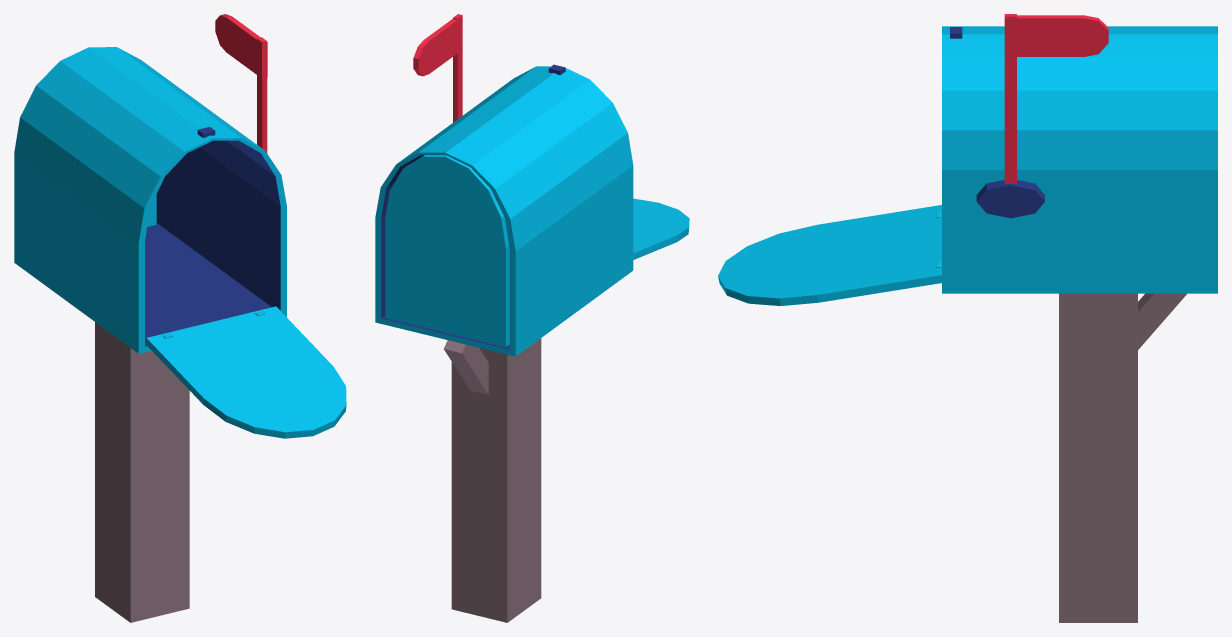
The model's file is ReferenceMailbox.fbx.
3 renders of one model, left to right at view 1: azimuth 30°, elevation 25°; view 2: azimuth 150°, elevation 25°; view 3: azimuth 270°, elevation 25°, orthographic. The views are drawn at different scales.
Visible parts, largest first — view 1: Mailbox arched shell, Square support post, Front hatch - bottom hinge, Rounded horizontal flag tab, Flag upright pole; view 2: Mailbox arched shell, Square support post, Mailbox back panel, Front hatch - bottom hinge, Rounded horizontal flag tab, Diagonal support, Flag upright pole; view 3: Mailbox arched shell, Square support post, Front hatch - bottom hinge, Rounded horizontal flag tab, Flag octagonal pivot, Flag upright pole, Diagonal support.
Part boxes in pixels (x1,y1,x2,y2): Mailbox arched shell: (14,47,286,353); Square support post: (95,322,189,622); Front hatch - bottom hinge: (146,306,346,438); Rounded horizontal flag tab: (215,14,267,78); Flag upright pole: (257,37,267,153); Mailbox arched shell: (375,66,633,356); Square support post: (451,338,541,622); Mailbox back panel: (385,155,509,347); Front hatch - bottom hinge: (633,198,689,259); Rounded horizontal flag tab: (413,16,462,76); Diagonal support: (444,340,488,394); Flag upright pole: (453,14,462,122); Mailbox arched shell: (942,26,1217,293); Square support post: (1059,293,1137,622); Front hatch - bottom hinge: (718,205,941,305); Rounded horizontal flag tab: (1005,15,1108,56); Flag octagonal pivot: (976,180,1044,218); Flag upright pole: (1004,14,1016,184); Diagonal support: (1138,293,1186,349).
Bounding box in the file's own units: 135 × 458 × 327.
